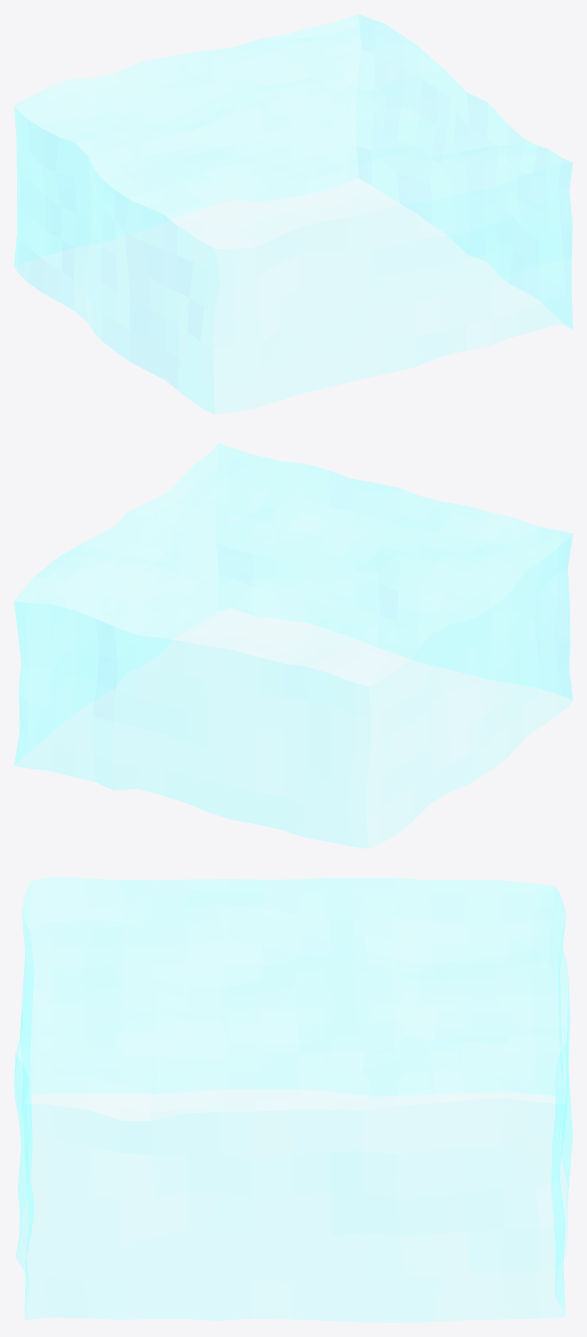
Rendered from ocean.glb.
3 views of the same model, one above another, from view 1: azimuth 30°, elevation 25°; view 2: azimuth 150°, elevation 25°; view 3: azimuth 270°, elevation 25° (orthographic). The views are drawn at different scales.
Visible parts, largest first — view 1: Object_4; view 2: Object_4; view 3: Object_4.
Part boxes in pixels (x1,y1,x2,y2): Object_4: (14, 14, 572, 414); Object_4: (14, 443, 572, 848); Object_4: (14, 877, 572, 1322).
Bounding box in the file's own units: 11.05 × 4.96 × 10.91.
